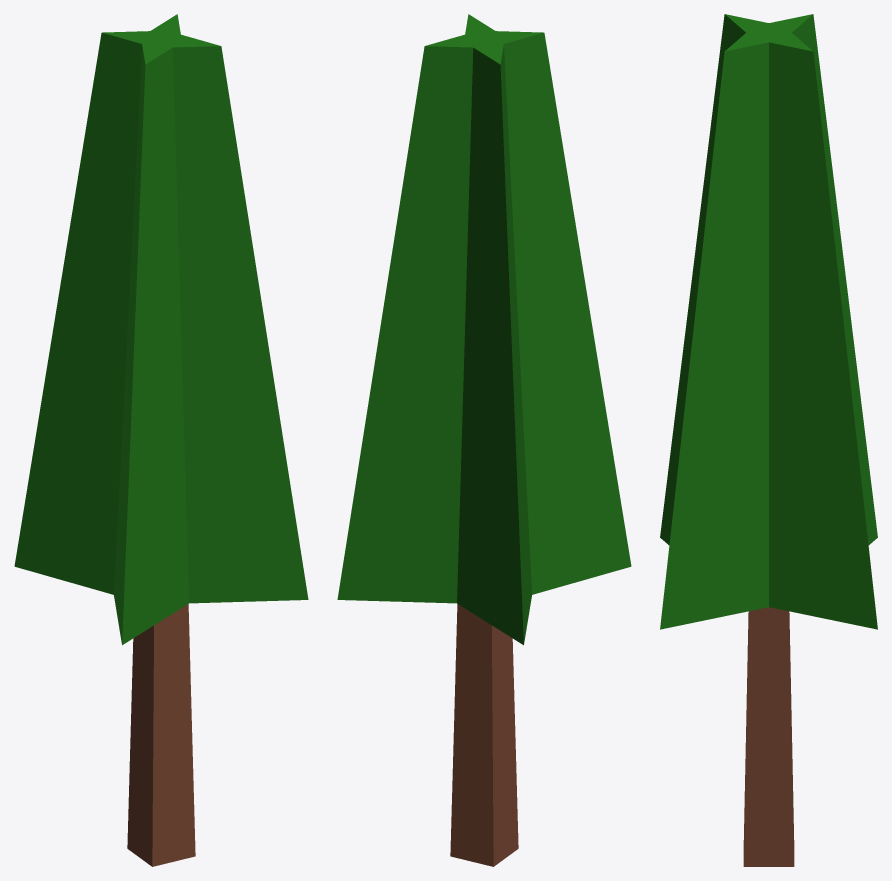
Rendered from Tree_27_summer_vc.fbx.
The picture shows the model from 3 angles, left to right: view 1: azimuth 30°, elevation 25°; view 2: azimuth 150°, elevation 25°; view 3: azimuth 270°, elevation 25°; orthographic projection.
Visible parts, largest first — view 1: Tree_27_summer_vc; view 2: Tree_27_summer_vc; view 3: Tree_27_summer_vc.
Boxes of the visible parts, x1,y1,x2,y2 form: Tree_27_summer_vc: (14, 14, 308, 866); Tree_27_summer_vc: (337, 14, 631, 866); Tree_27_summer_vc: (660, 14, 877, 866).
Size of the model in its own units: 63.19 by 263 by 63.19.
